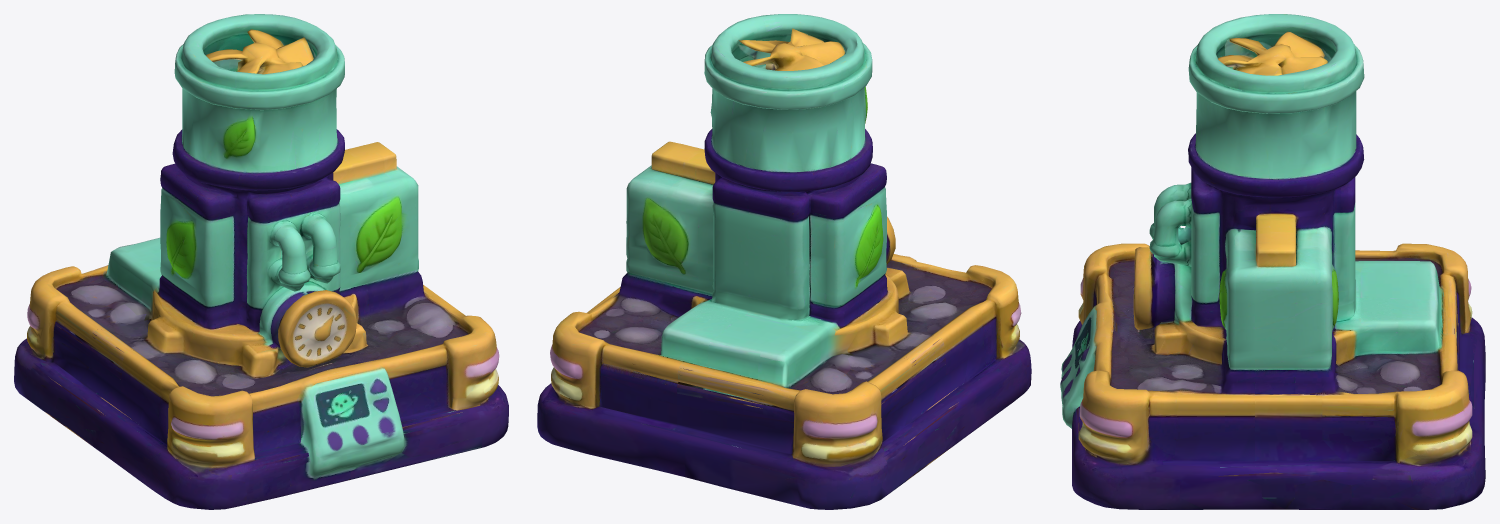
File: model_purity_01.glb
The picture shows the model from 3 angles, left to right: view 1: azimuth 30°, elevation 25°; view 2: azimuth 150°, elevation 25°; view 3: azimuth 270°, elevation 25°; orthographic projection. The views are drawn at different scales.
Visible parts, largest first — view 1: Mesh_0; view 2: Mesh_0; view 3: Mesh_0.
Boxes of the visible parts, x1,y1,x2,y2 form: Mesh_0: (14,14,508,509); Mesh_0: (537,14,1031,509); Mesh_0: (1060,14,1485,509).
Bounding box in the file's own units: 1.83 × 1.87 × 1.91.
Materials: 1 (1 with a texture image).
